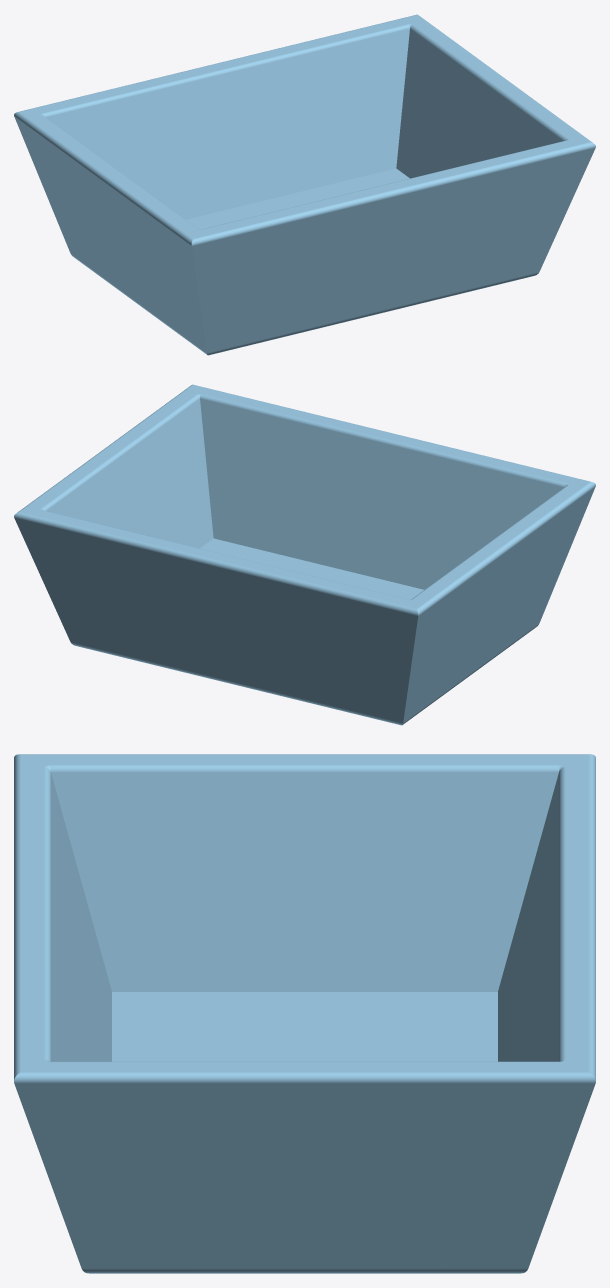
The model's file is VR-Task-Bucket.dae.
The picture shows the model from 3 angles, top to bottom: view 1: azimuth 30°, elevation 25°; view 2: azimuth 150°, elevation 25°; view 3: azimuth 270°, elevation 25°; orthographic projection. The views are drawn at different scales.
Parts seen in each view (by area): view 1: ID2; view 2: ID2; view 3: ID2.
Part boxes in pixels (left/top/right/bottom): ID2: left=14, top=14, right=595, bottom=355; ID2: left=14, top=384, right=595, bottom=725; ID2: left=14, top=754, right=595, bottom=1273.
Size of the model in its own units: 0.1047 by 0.0797 by 0.035.
